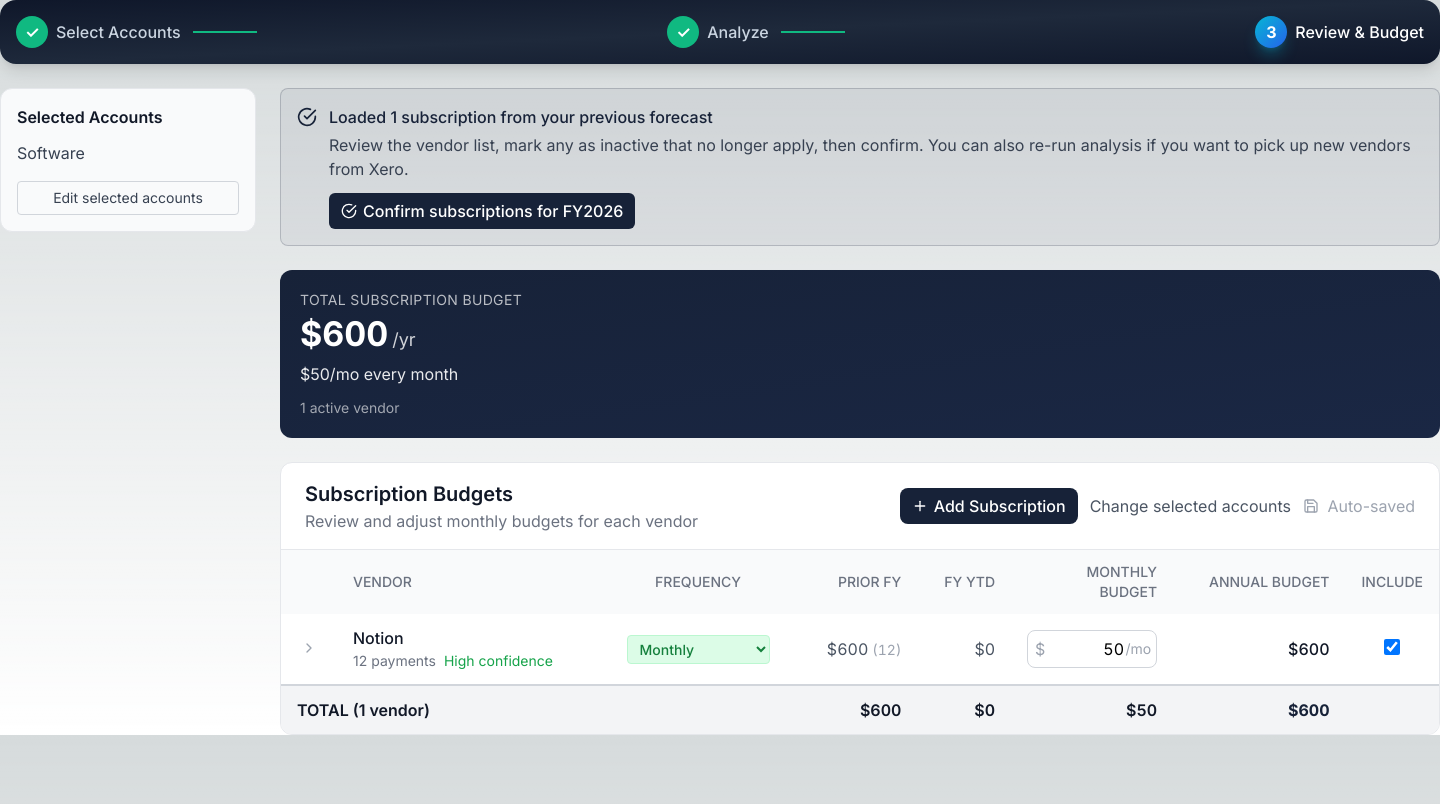
Test: UX-S6-03 — Step 6 manual subscription entry › Test 2: clicking the button opens the form; filling fields and submitting adds the vendor
The width and height of the screenshot is (1440, 804).
Expected: the heading "Subscription Budgets" is shown, [305,482,513,506]
Click the button "Add Subscription" at coordinates (989, 506), box [900,488,1078,524]
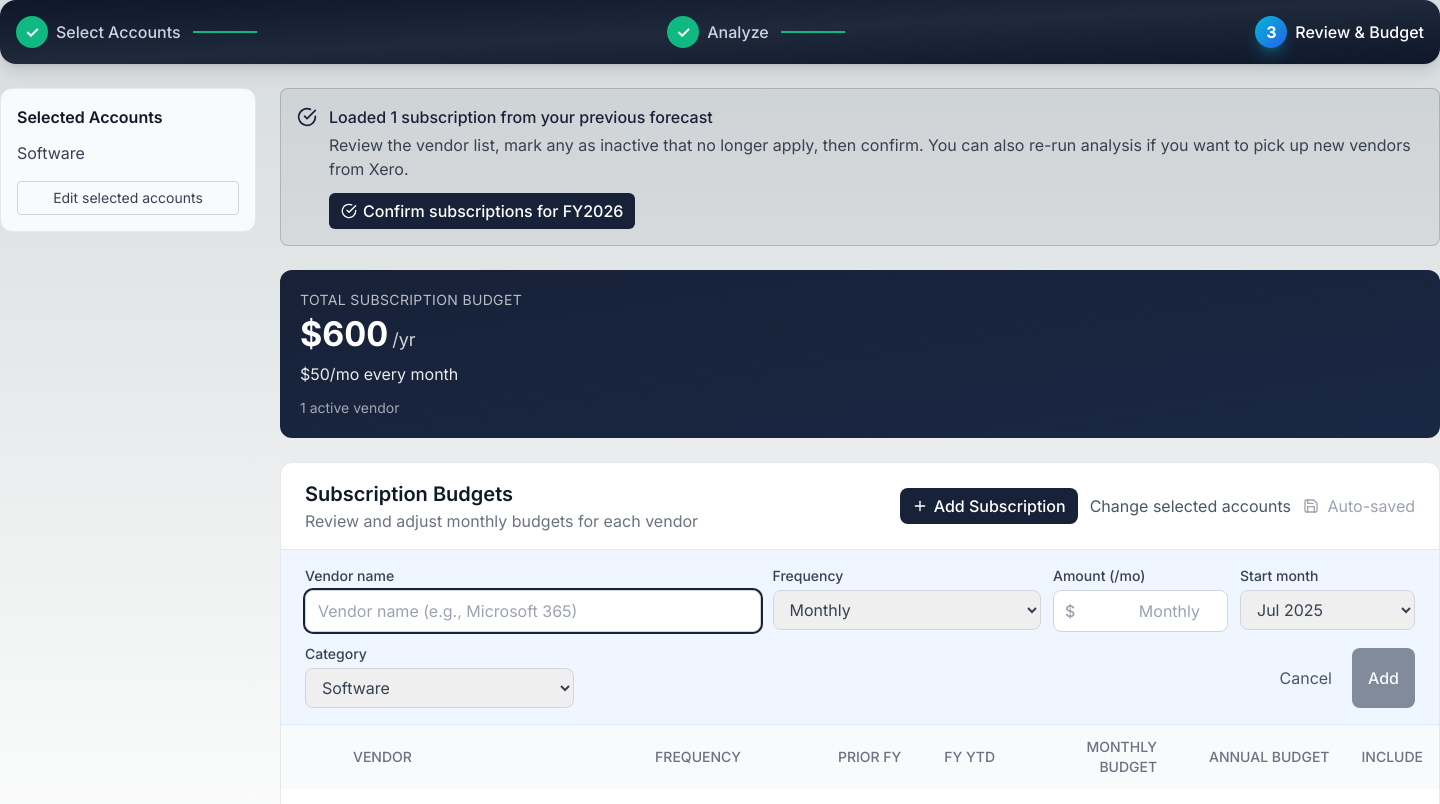
Form fields
Type "Stripe" into the field with placeholder "Vendor name (e.g., Microsoft 365)" at coordinates (533, 611), box [305,590,760,632]
Type "50" into the number field with placeholder "Monthly" at coordinates (1140, 611), box [1053,590,1228,632]
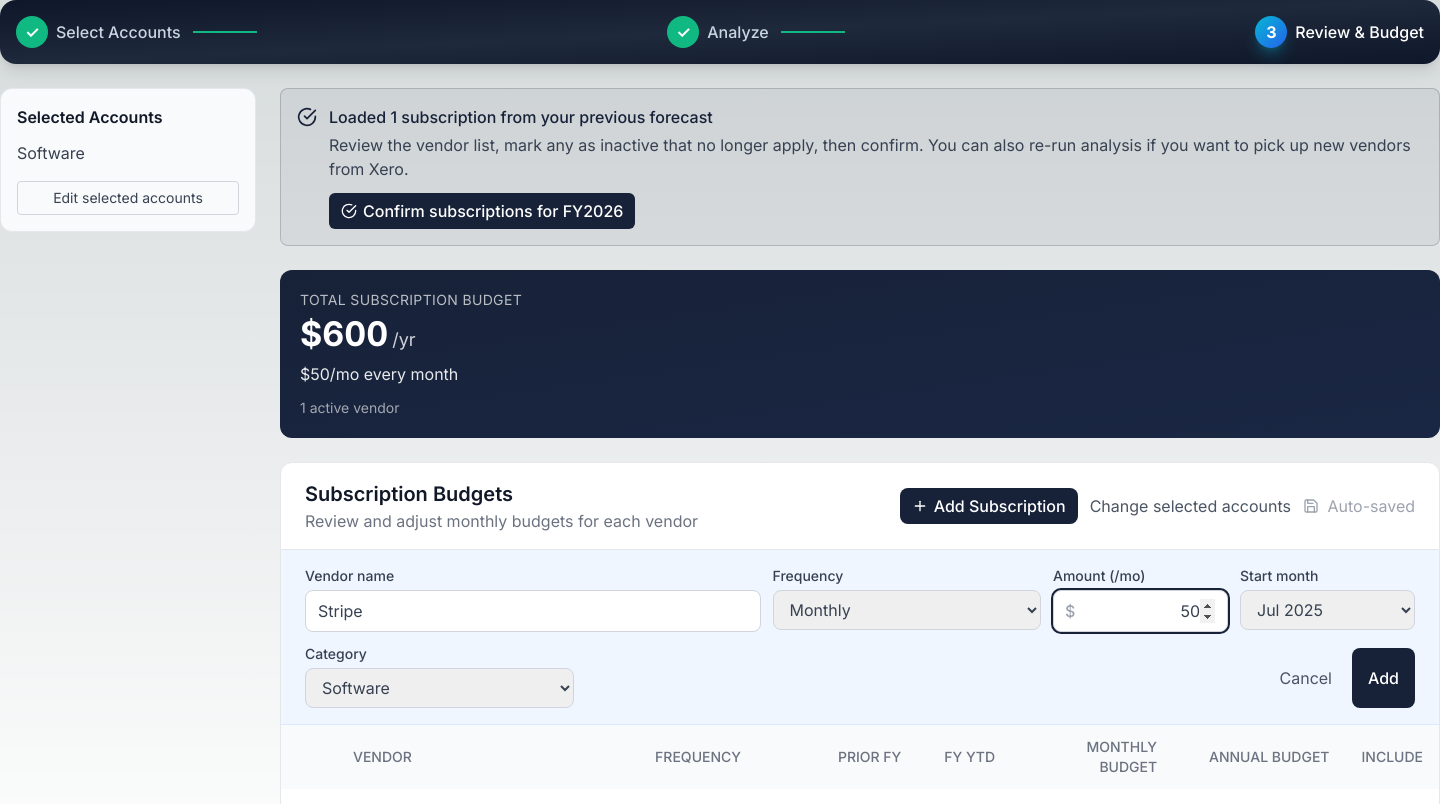
Select "Monthly" in the dropdown labelled "Frequency" at coordinates (907, 610), box [772,590,1041,630]
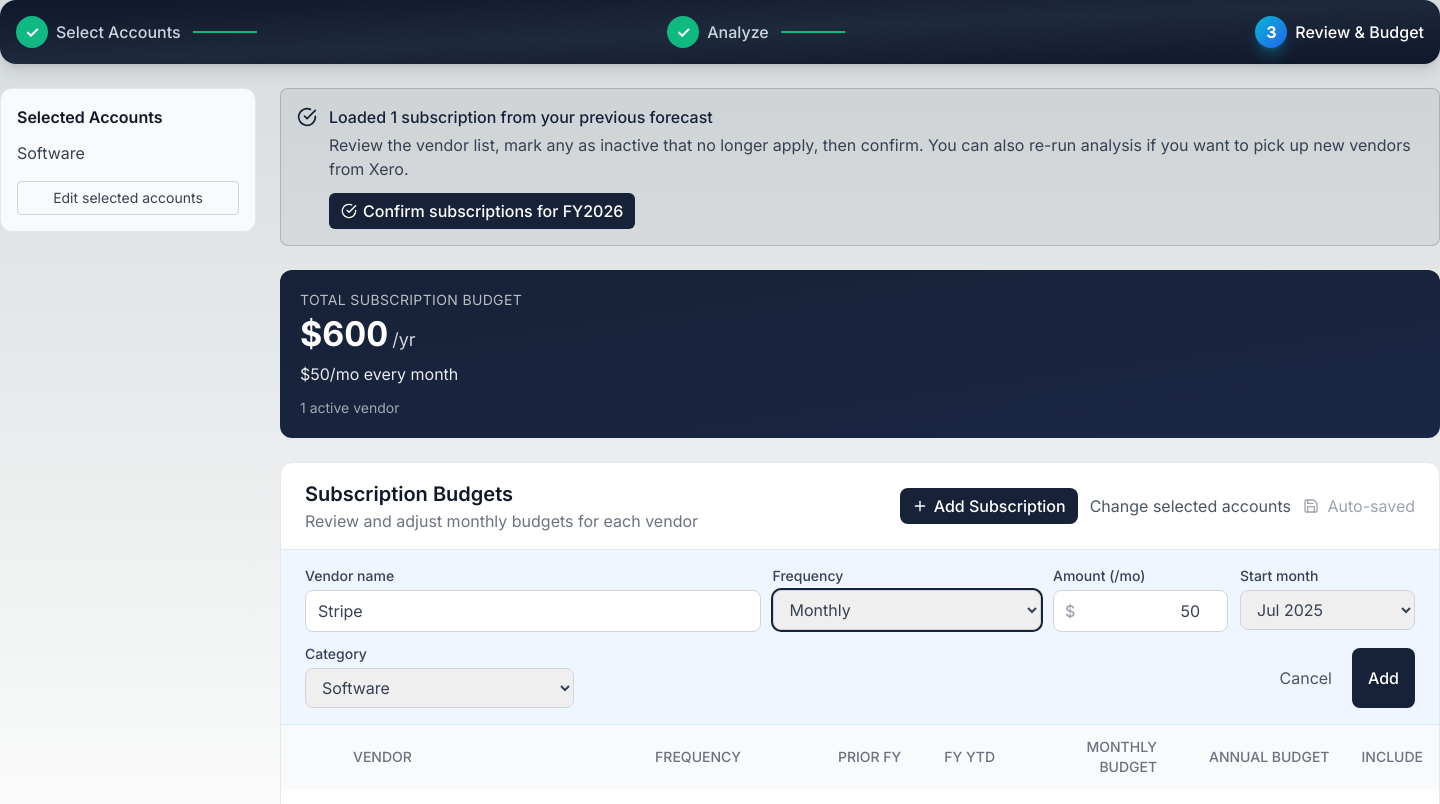
Start month dropdown — pick August 2026
Select "Aug 2026" in the dropdown labelled "Start month" at coordinates (1328, 610), box [1240,590,1415,630]
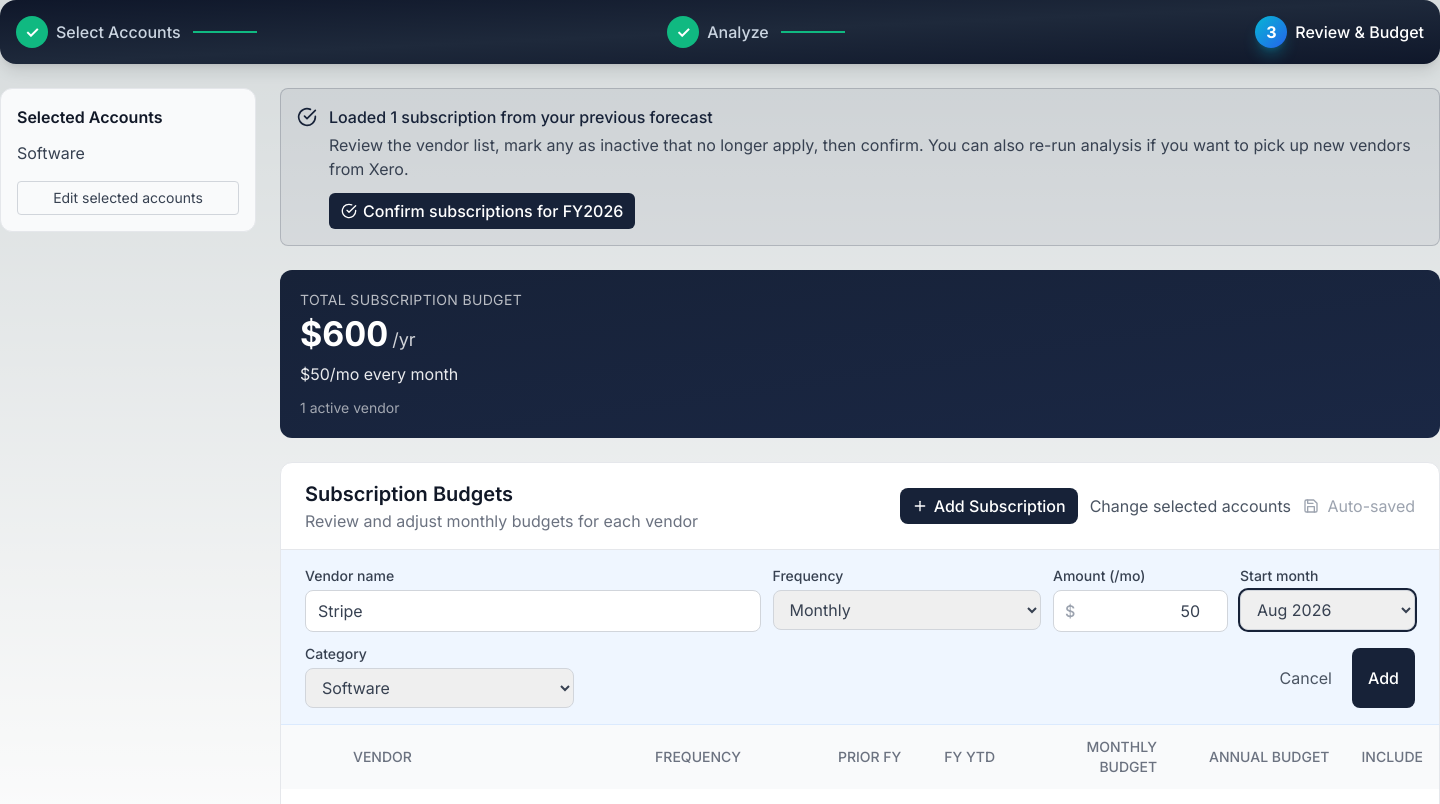
Category dropdown — pick Software
Select "Software" in the dropdown labelled "Category" at coordinates (439, 688), box [305,668,574,708]
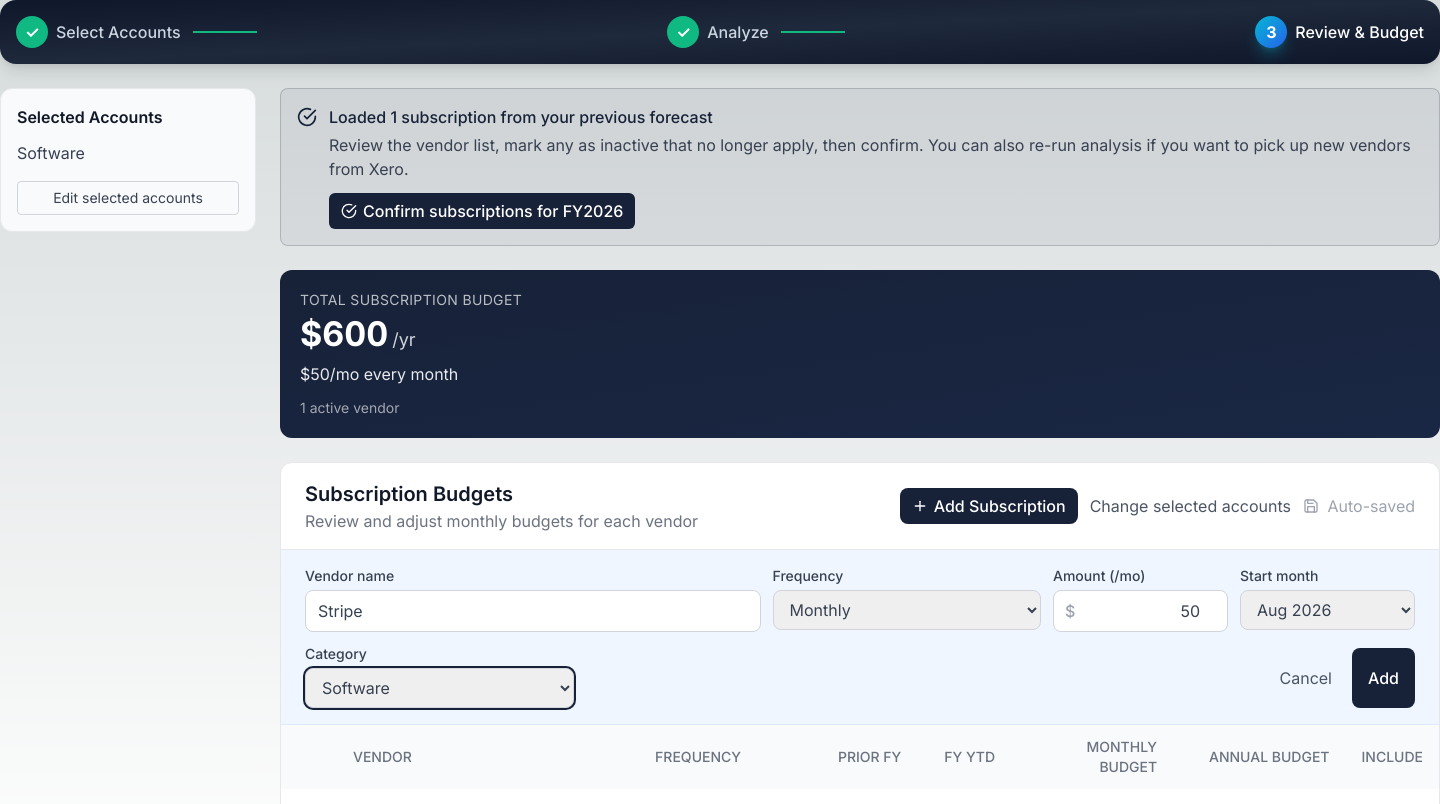
Click the button "Add" at coordinates (1384, 678), box [1352,648,1415,708]
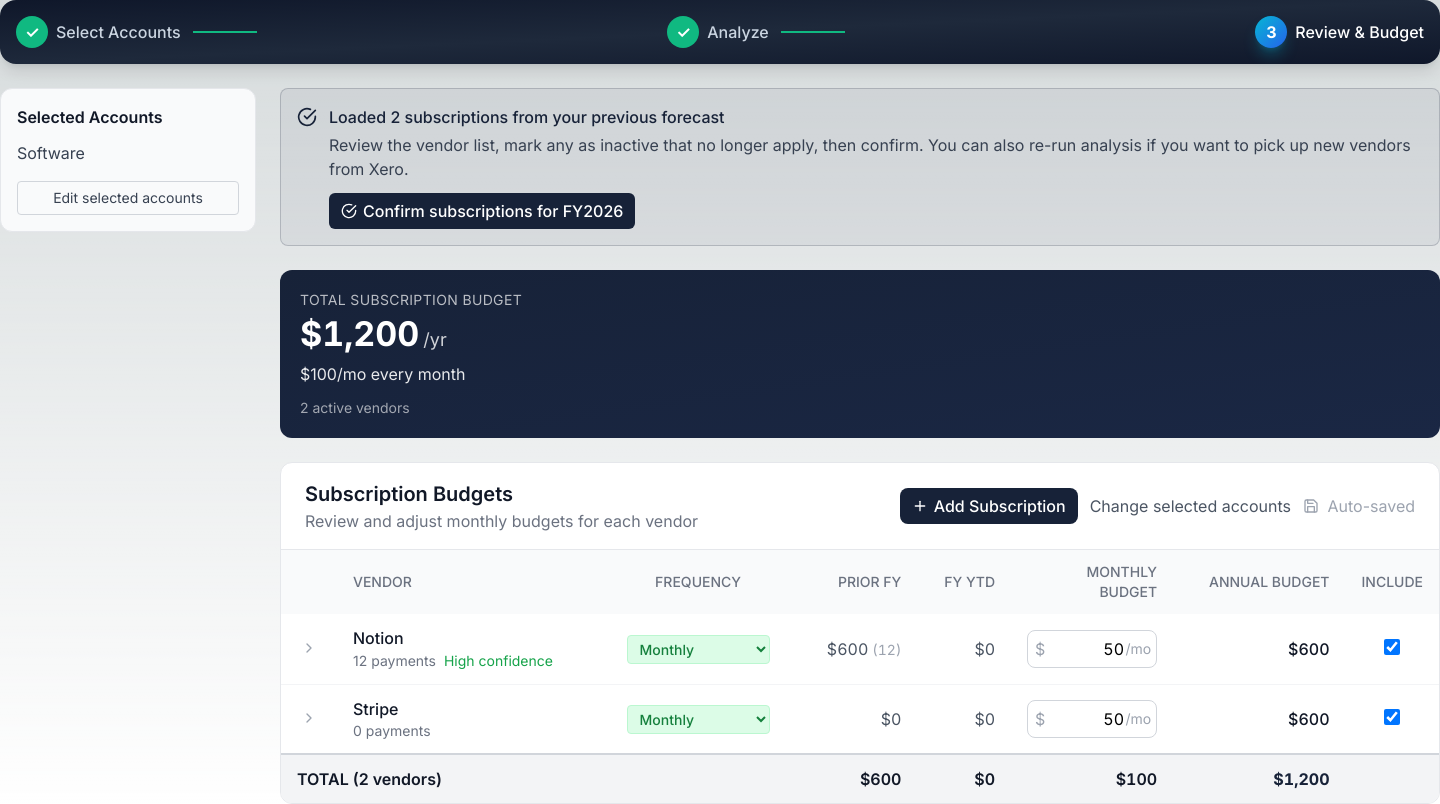
Expected: the text "Notion" is shown, [353,628,404,648]
Result: the text "Stripe" is shown at [353,699,398,719]
